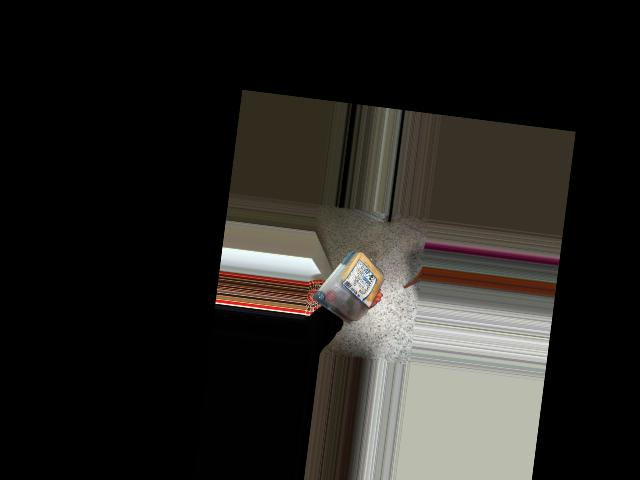cheese: (315, 242, 388, 326)
